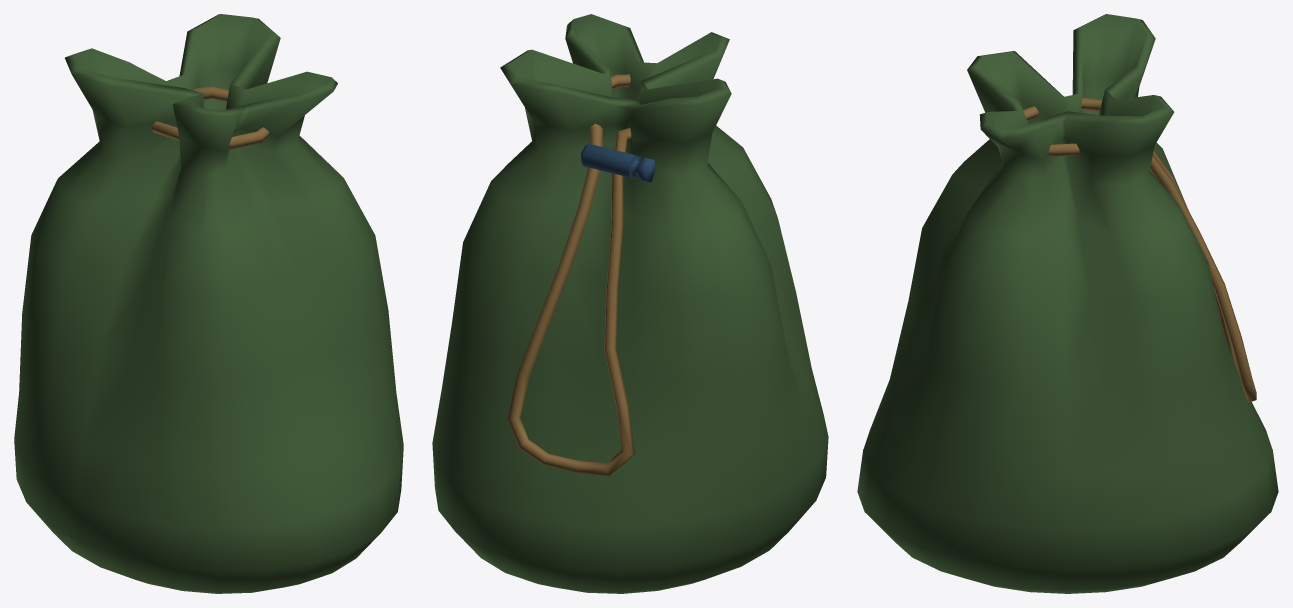
File: Bag.FBX
3 renders of one model, left to right at view 1: azimuth 30°, elevation 25°; view 2: azimuth 150°, elevation 25°; view 3: azimuth 270°, elevation 25°, orthographic. The views are drawn at different scales.
Parts seen in each view (by area): view 1: BackPack_Main; view 2: BackPack_Main; view 3: BackPack_Main.
Boxes of the visible parts, x1,y1,x2,y2 form: BackPack_Main: [14, 14, 403, 593]; BackPack_Main: [432, 14, 828, 593]; BackPack_Main: [857, 14, 1278, 593].
Bounding box in the file's own units: 44 × 60.85 × 49.16.
